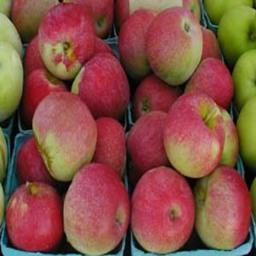apple: (31, 91, 97, 181), (64, 167, 131, 254), (129, 166, 195, 253), (163, 89, 226, 178), (194, 165, 252, 250), (145, 6, 204, 83), (3, 180, 63, 252), (38, 3, 95, 77), (72, 53, 129, 115), (126, 110, 172, 170), (183, 57, 234, 111), (119, 6, 159, 72), (216, 3, 255, 69), (90, 116, 127, 179), (131, 74, 182, 118), (15, 136, 58, 188), (9, 1, 59, 40), (202, 1, 256, 23)
